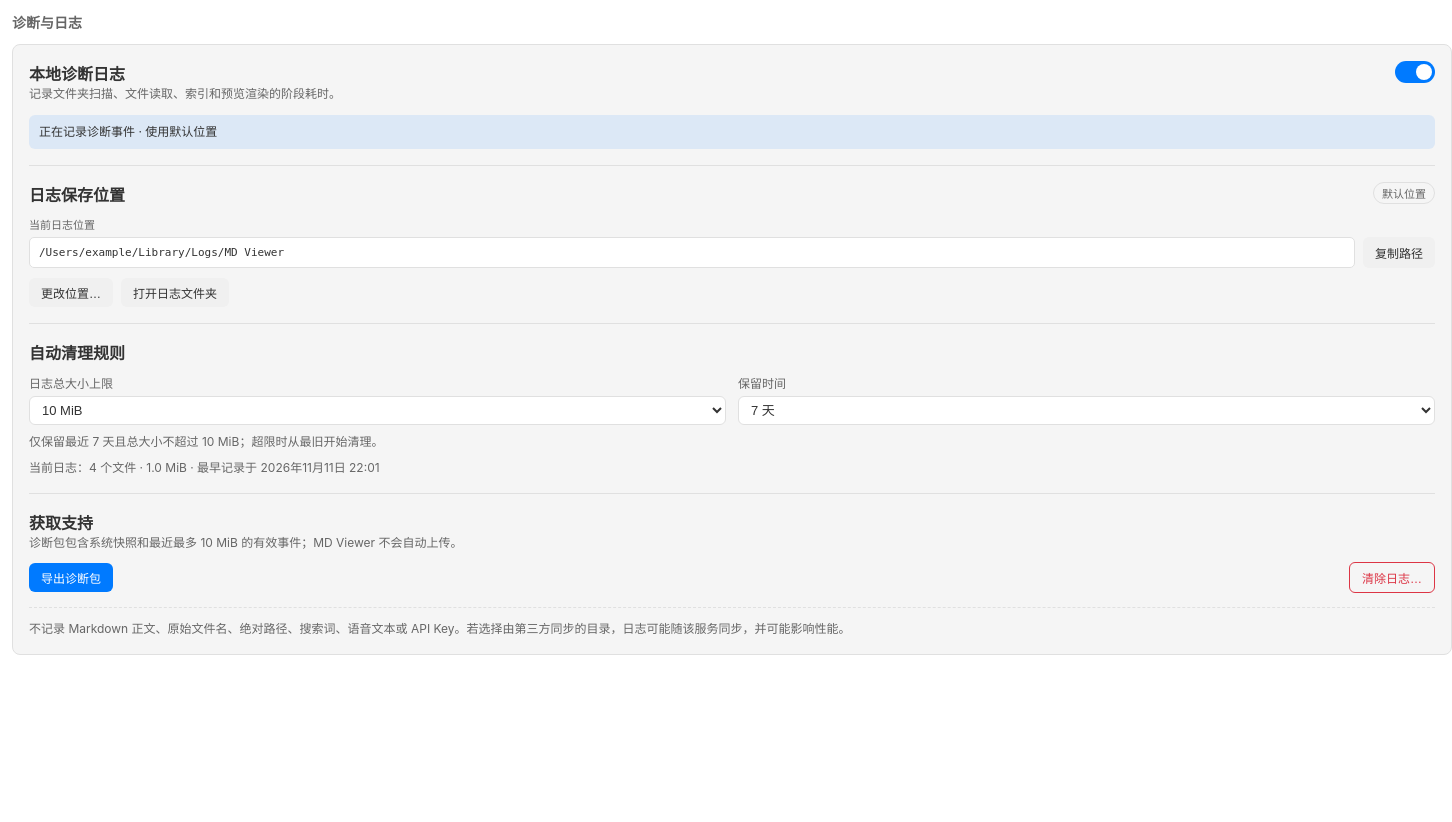
it: DiagnosticsSettingsSection › 清除后报告实际文件数和字节数，不宣称日志为空
This screenshot has width=1452, height=822.
Expected: the text "正在记录诊断事件 · 使用默认位置" is shown, [29, 115, 1435, 149]
Click the button "清除日志…".
click(1392, 578)  # box [1349, 562, 1435, 593]
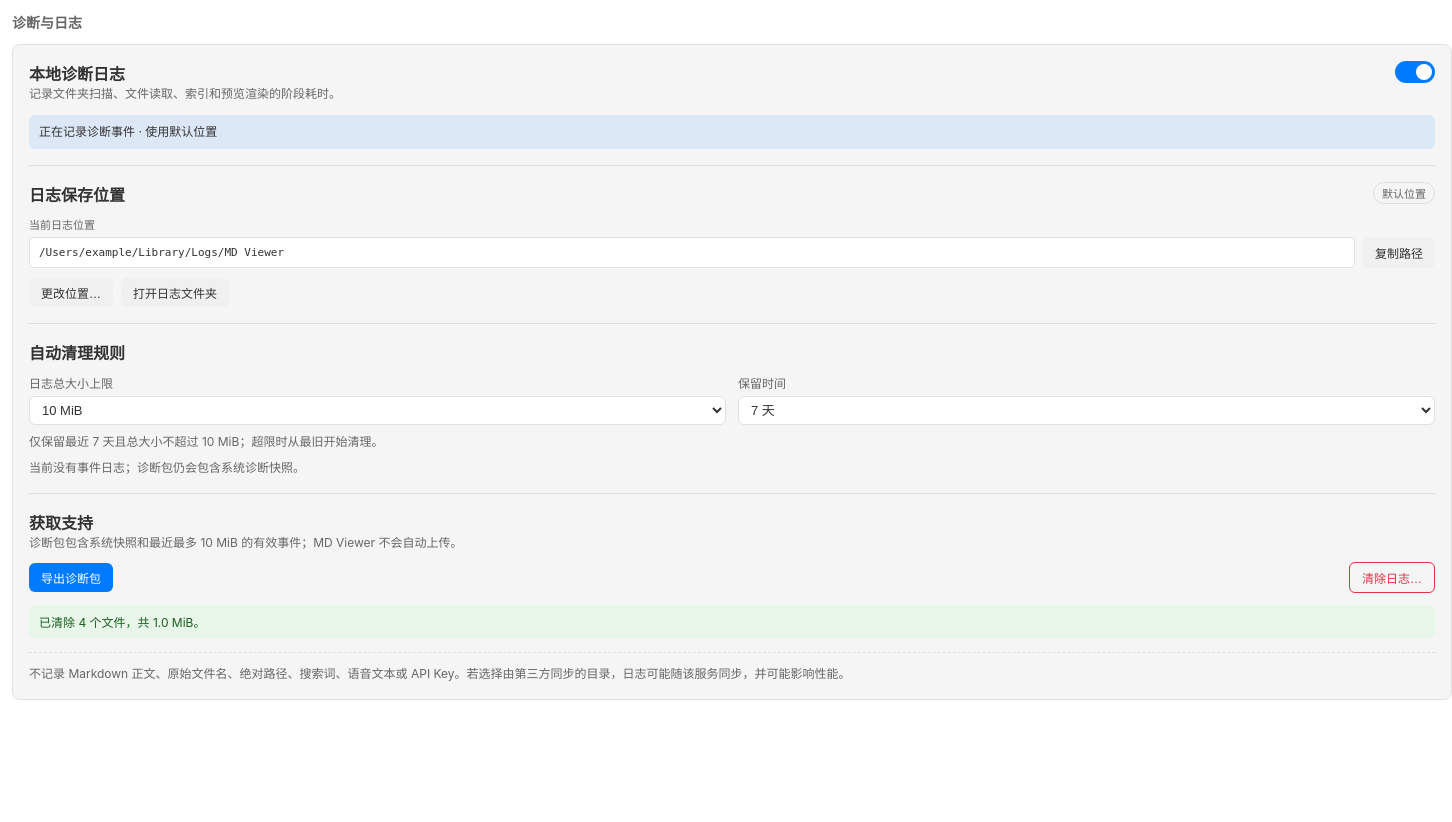
Now the text "已清除 4 个文件，共 1.0 MiB。" is shown, box [39, 613, 206, 630]
